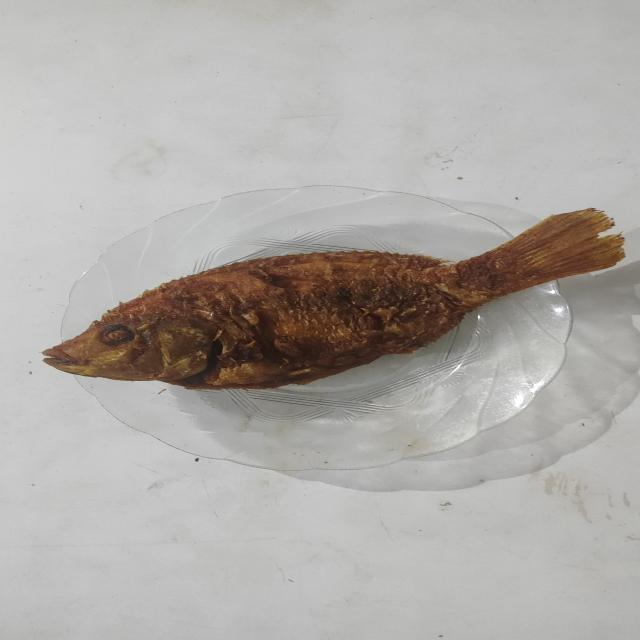ikan_mujair: (43, 208, 624, 390)
